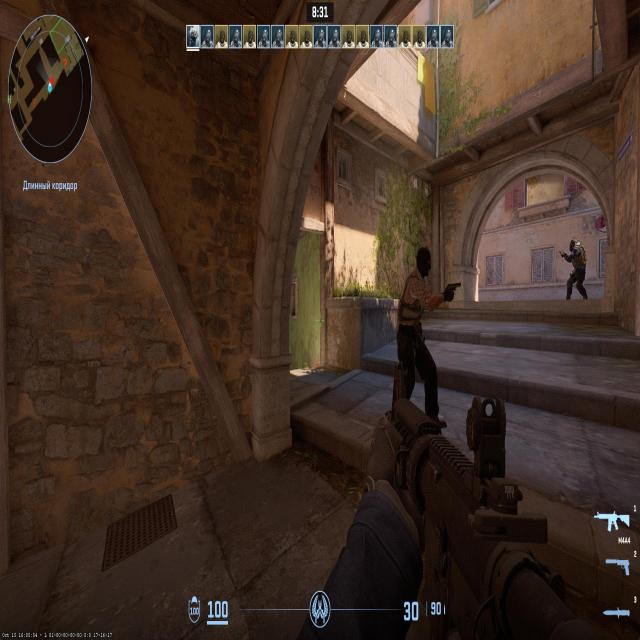CT: (566, 241, 584, 298)
CT_heat: (572, 243, 578, 253)
T: (408, 247, 432, 414)
T_heat: (418, 248, 428, 274)
